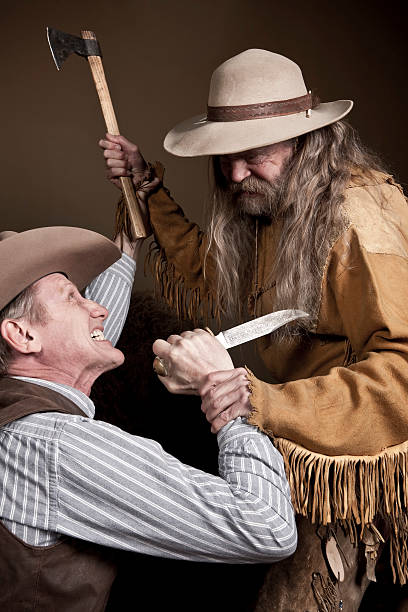knife: (217, 305, 313, 350)
